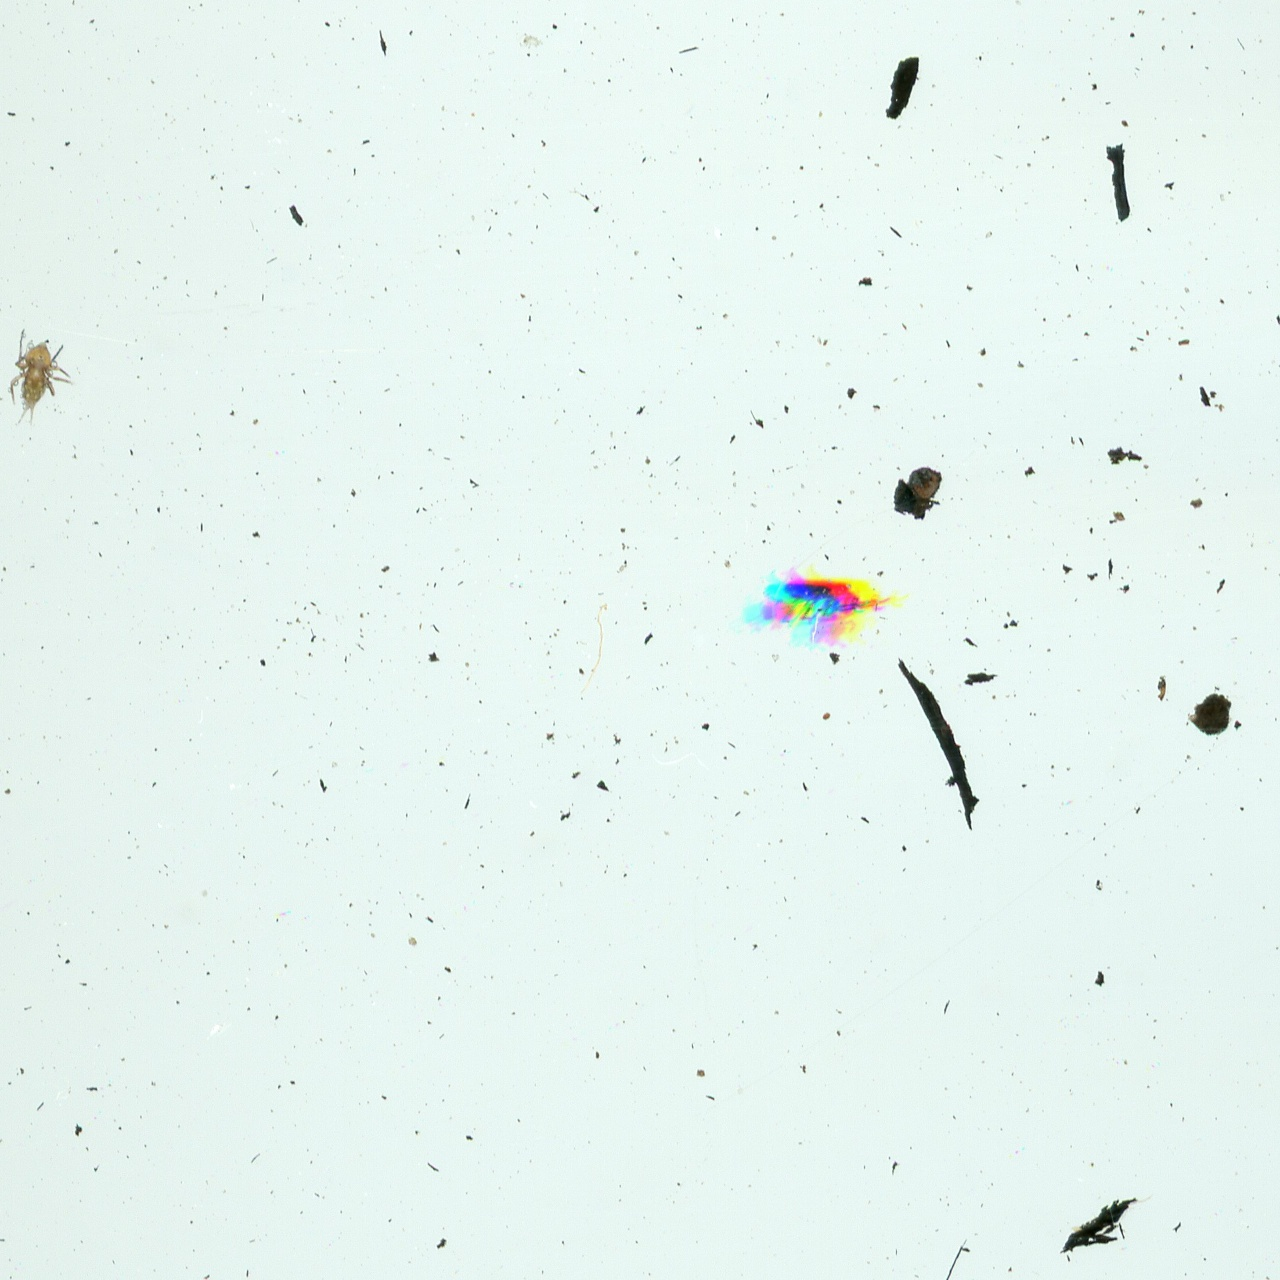arthropod: (735, 564, 893, 653), (0, 325, 79, 432)
